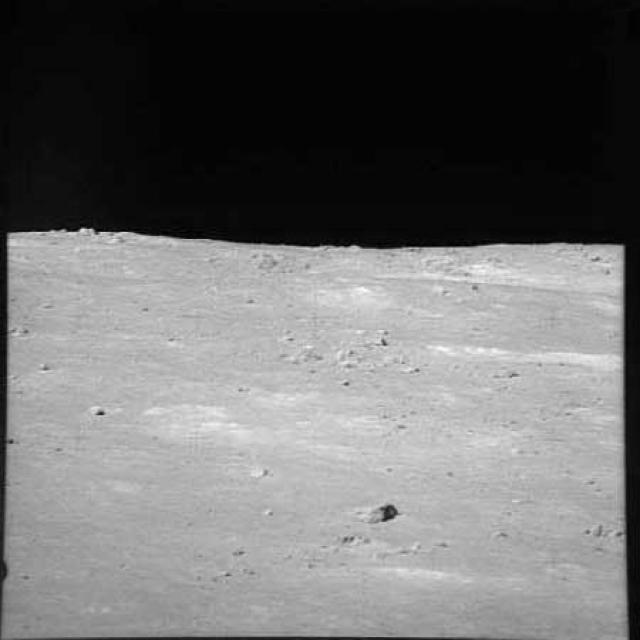rock: (347, 490, 404, 533)
